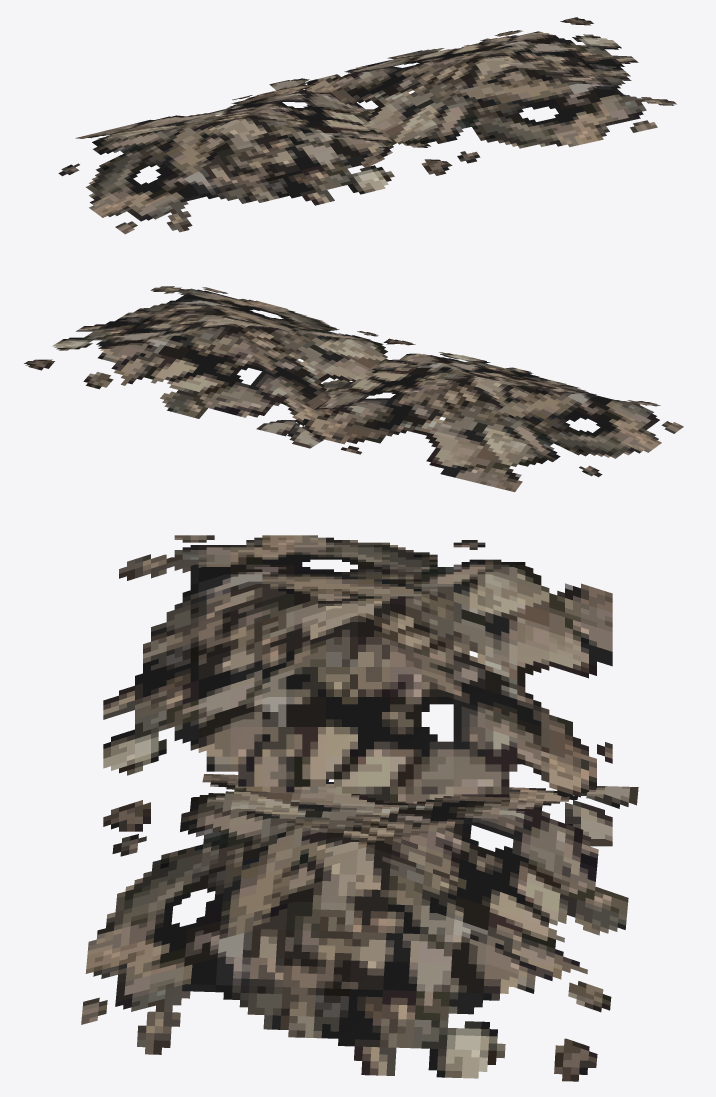
The model's file is Environment - Prop - Stone Wall 01 - PMWallStn3_R.glb.
The picture shows the model from 3 angles, top to bottom: view 1: azimuth 30°, elevation 25°; view 2: azimuth 150°, elevation 25°; view 3: azimuth 270°, elevation 25°; orthographic projection. The views are drawn at different scales.
Parts seen in each view (by area): view 1: PMWALLSTN3_R; view 2: PMWALLSTN3_R; view 3: PMWALLSTN3_R.
Boxes of the visible parts, <box> form: PMWALLSTN3_R: <box>58,17,676,234</box>; PMWALLSTN3_R: <box>24,286,683,492</box>; PMWALLSTN3_R: <box>81,535,638,1081</box>.
Bounding box in the file's own units: 39.48 × 2.71 × 17.1.
1 material, 1 textured.
